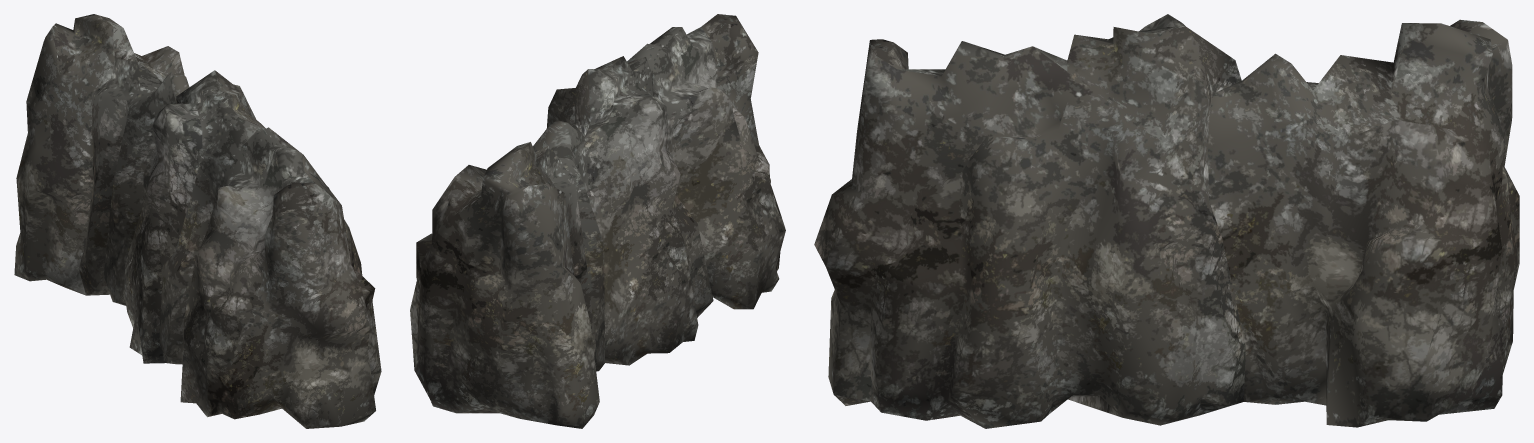
Rendered from Stage_Obj002.fbx.
The picture shows the model from 3 angles, left to right: view 1: azimuth 30°, elevation 25°; view 2: azimuth 150°, elevation 25°; view 3: azimuth 270°, elevation 25°; orthographic projection. The views are drawn at different scales.
Visible parts, largest first — view 1: SM_SampleGame_Rock001; view 2: SM_SampleGame_Rock001; view 3: SM_SampleGame_Rock001.
Boxes of the visible parts, x1,y1,x2,y2 form: SM_SampleGame_Rock001: [14, 14, 381, 428]; SM_SampleGame_Rock001: [410, 14, 785, 428]; SM_SampleGame_Rock001: [814, 14, 1519, 428].
Bounding box in the file's own units: 934 × 1295 × 2213.
1 material, 1 textured.
